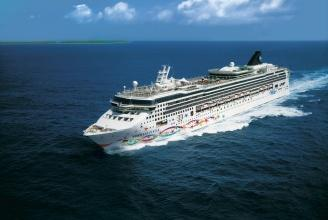youlun: (83, 46, 293, 153)
